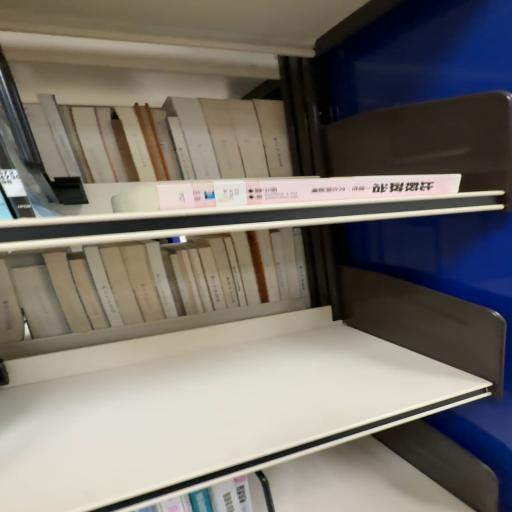flat: (113, 175, 462, 213)
